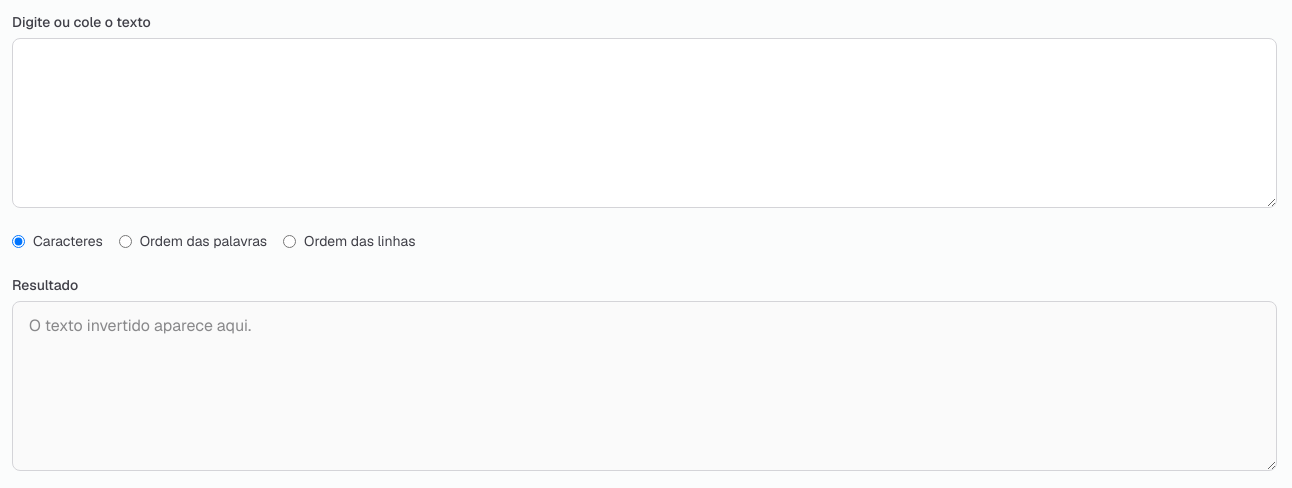
Test: InverterTextoTool › inverte a ordem das palavras ao selecionar essa opção
Type "bom dia mundo" into the text box labelled "Digite ou cole o texto" at (644, 123), box [12,38,1277,208]
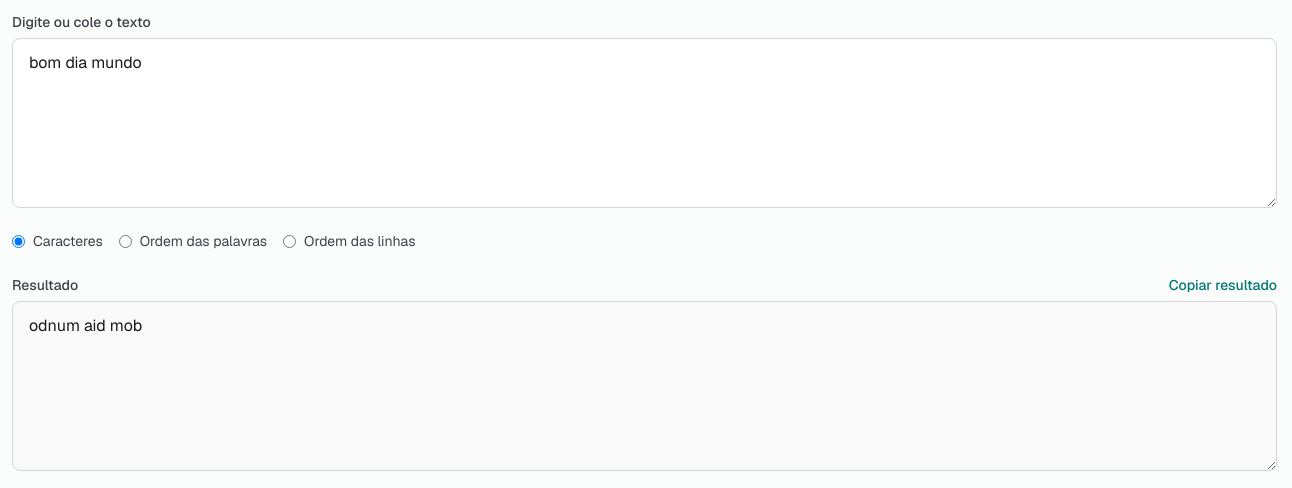
Click the radio button labelled "Ordem das palavras" at (125, 241), box [119,234,132,248]
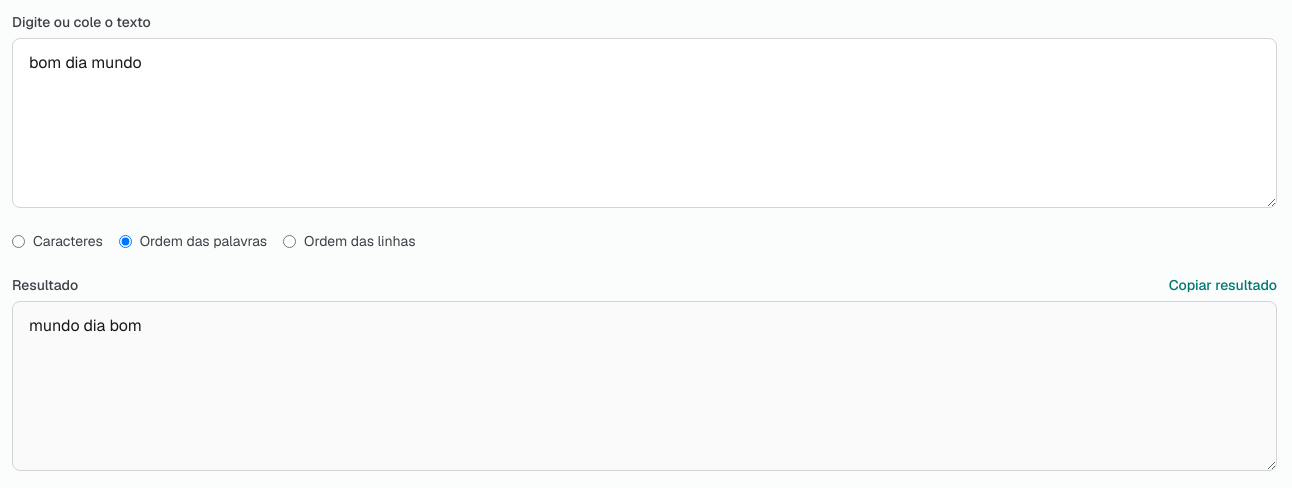
Check: the text box with placeholder "O texto invertido aparece aqui." holds "mundo dia bom", box [12,301,1277,471]
